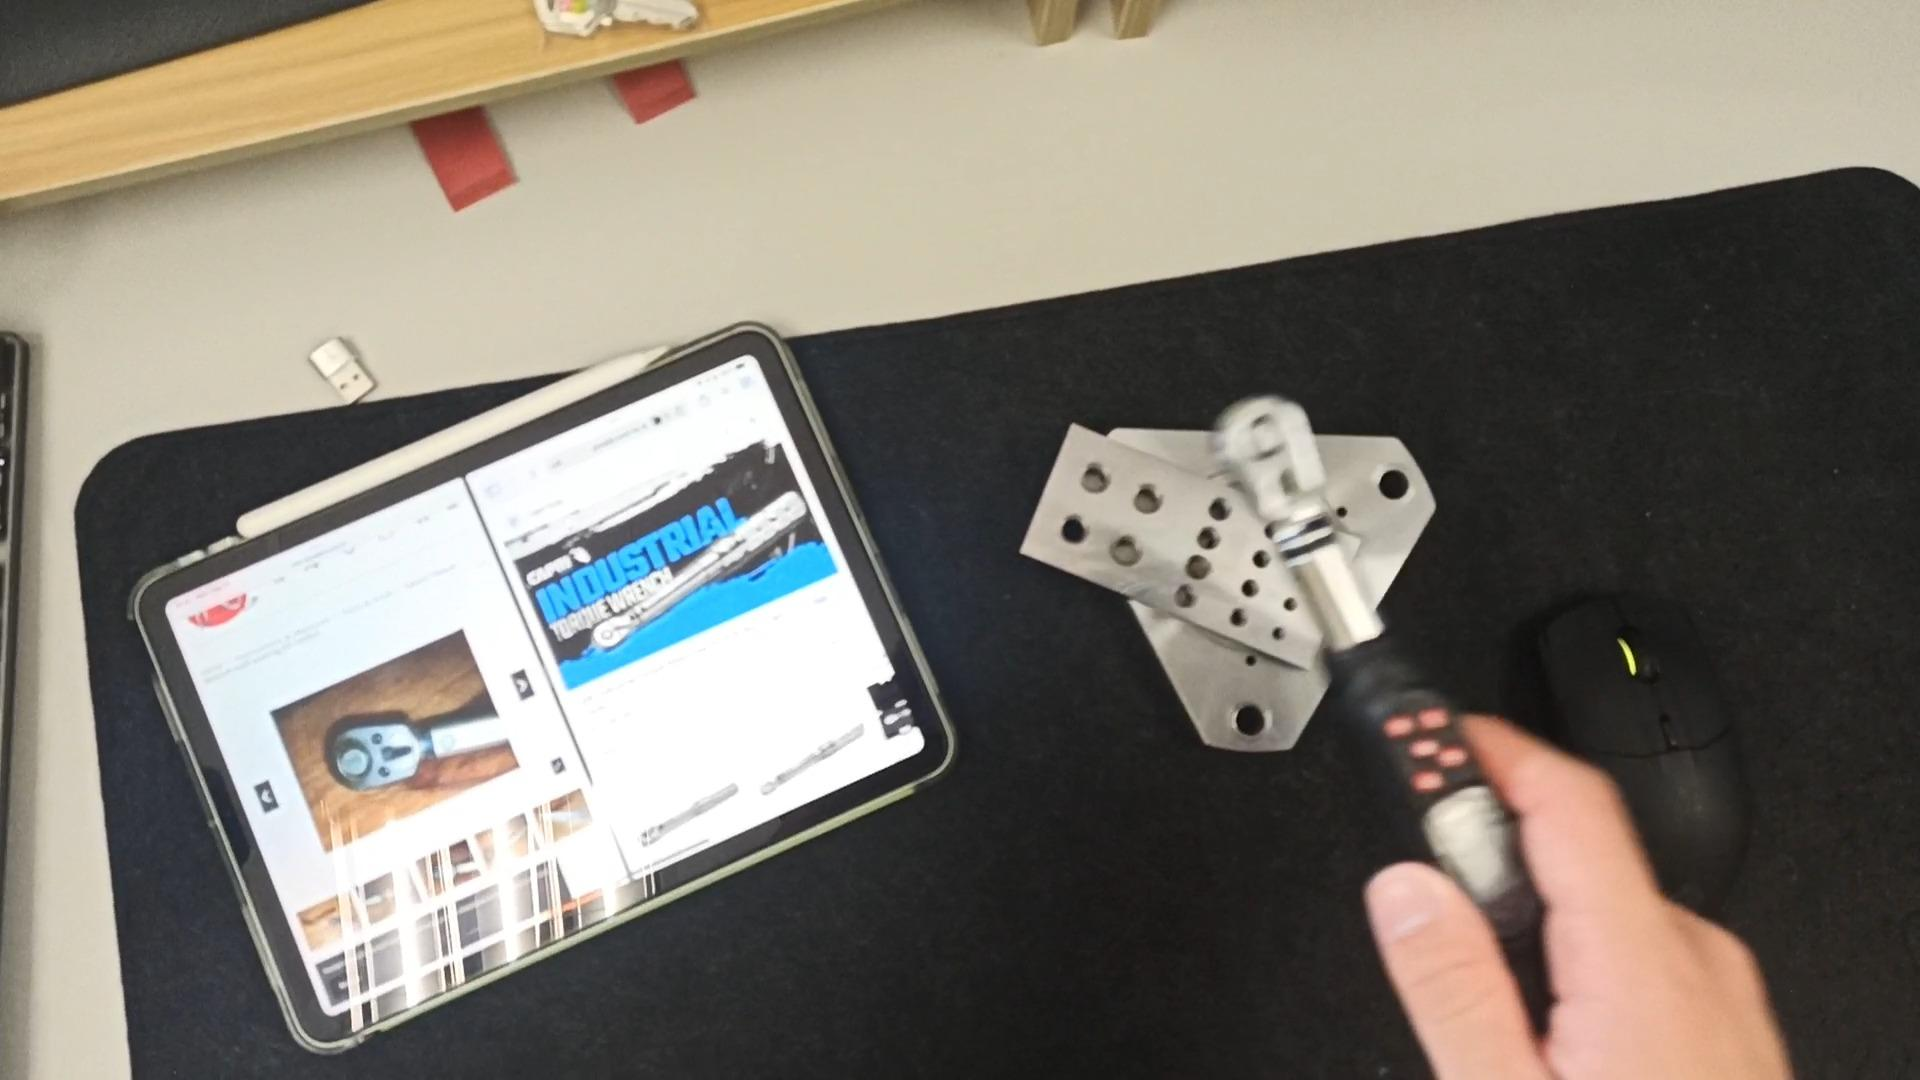Tool: (322, 718, 424, 794)
hole: (1204, 698, 1279, 746), (1372, 458, 1418, 507), (1068, 459, 1124, 496), (1093, 531, 1148, 568), (1042, 513, 1093, 548), (1119, 482, 1171, 516), (1195, 493, 1248, 526), (1175, 551, 1222, 580), (1187, 522, 1234, 550), (1163, 584, 1206, 611), (1239, 575, 1267, 605), (1268, 594, 1301, 613), (1249, 542, 1273, 568), (1227, 606, 1250, 633), (1268, 625, 1289, 643)
